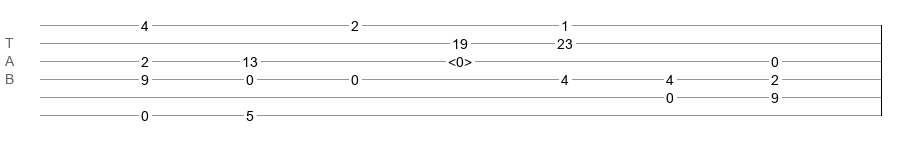0: (141, 108, 149, 118), (246, 72, 254, 82), (351, 72, 359, 82), (666, 90, 674, 100), (771, 54, 779, 64)
1: (561, 18, 569, 28)
13: (242, 54, 258, 64)
19: (452, 36, 468, 46)
2: (141, 54, 149, 64), (351, 18, 359, 28), (771, 72, 779, 82)
23: (557, 36, 573, 46)
4: (141, 18, 149, 28), (561, 72, 569, 82), (666, 72, 674, 82)
5: (246, 108, 254, 118)
9: (141, 72, 149, 82), (771, 90, 779, 100)
harmonic: (448, 54, 472, 64)
